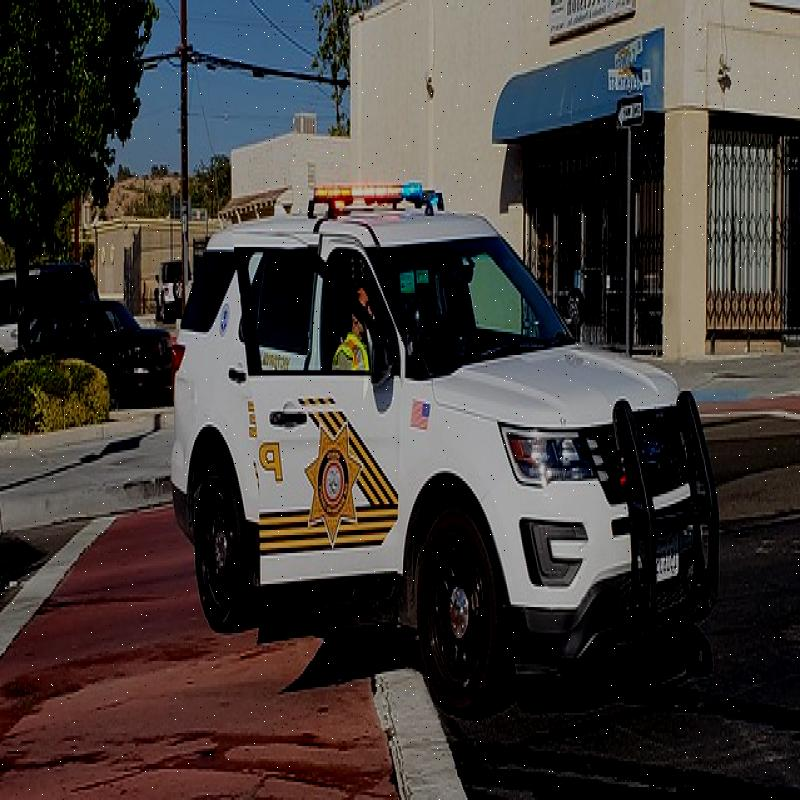AmbulanceSiren: (303, 167, 452, 230)
